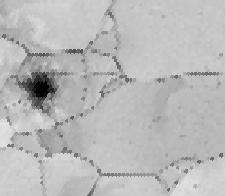good_void: (13, 66, 59, 115), (216, 50, 224, 58), (214, 81, 222, 88)
